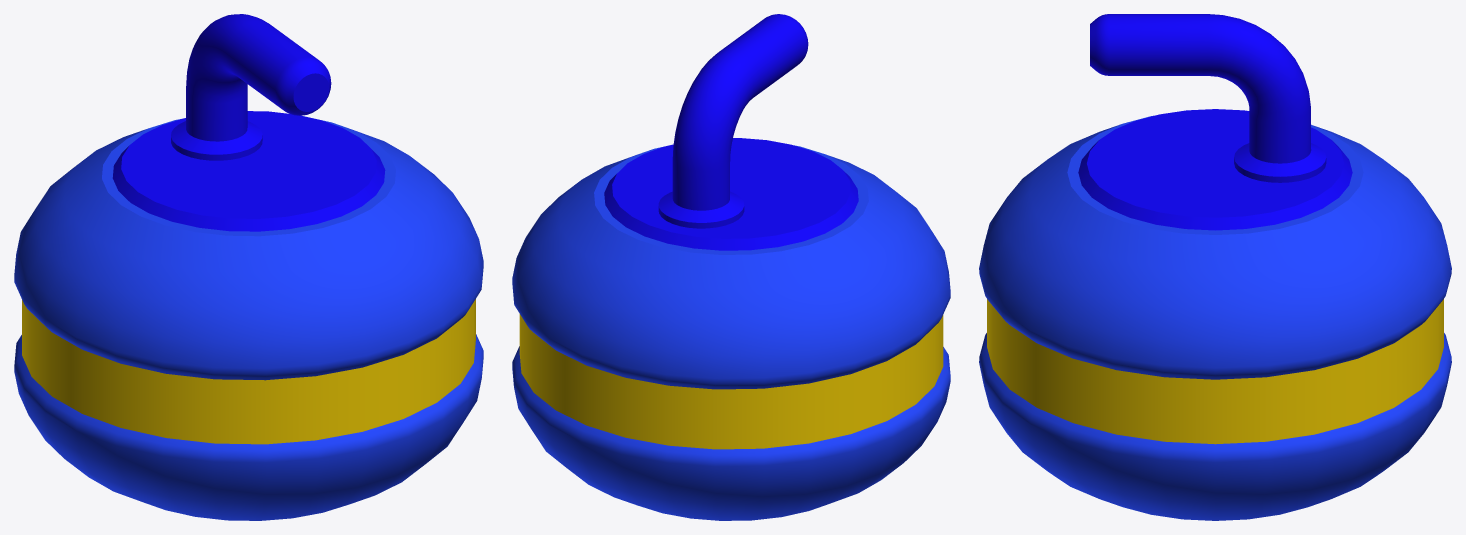
Rendered from Curling_Bullet_AssetV1.FBX.
3 views of the same model, side by side, from view 1: azimuth 30°, elevation 25°; view 2: azimuth 150°, elevation 25°; view 3: azimuth 270°, elevation 25° (orthographic). The views are drawn at different scales.
Parts seen in each view (by area): view 1: Curling_Bullet_Asset; view 2: Curling_Bullet_Asset; view 3: Curling_Bullet_Asset.
Boxes of the visible parts, x1,y1,x2,y2 form: Curling_Bullet_Asset: (14, 14, 483, 520); Curling_Bullet_Asset: (512, 14, 950, 520); Curling_Bullet_Asset: (979, 14, 1451, 520).
Bounding box in the file's own units: 13.51 × 13.92 × 13.51.
